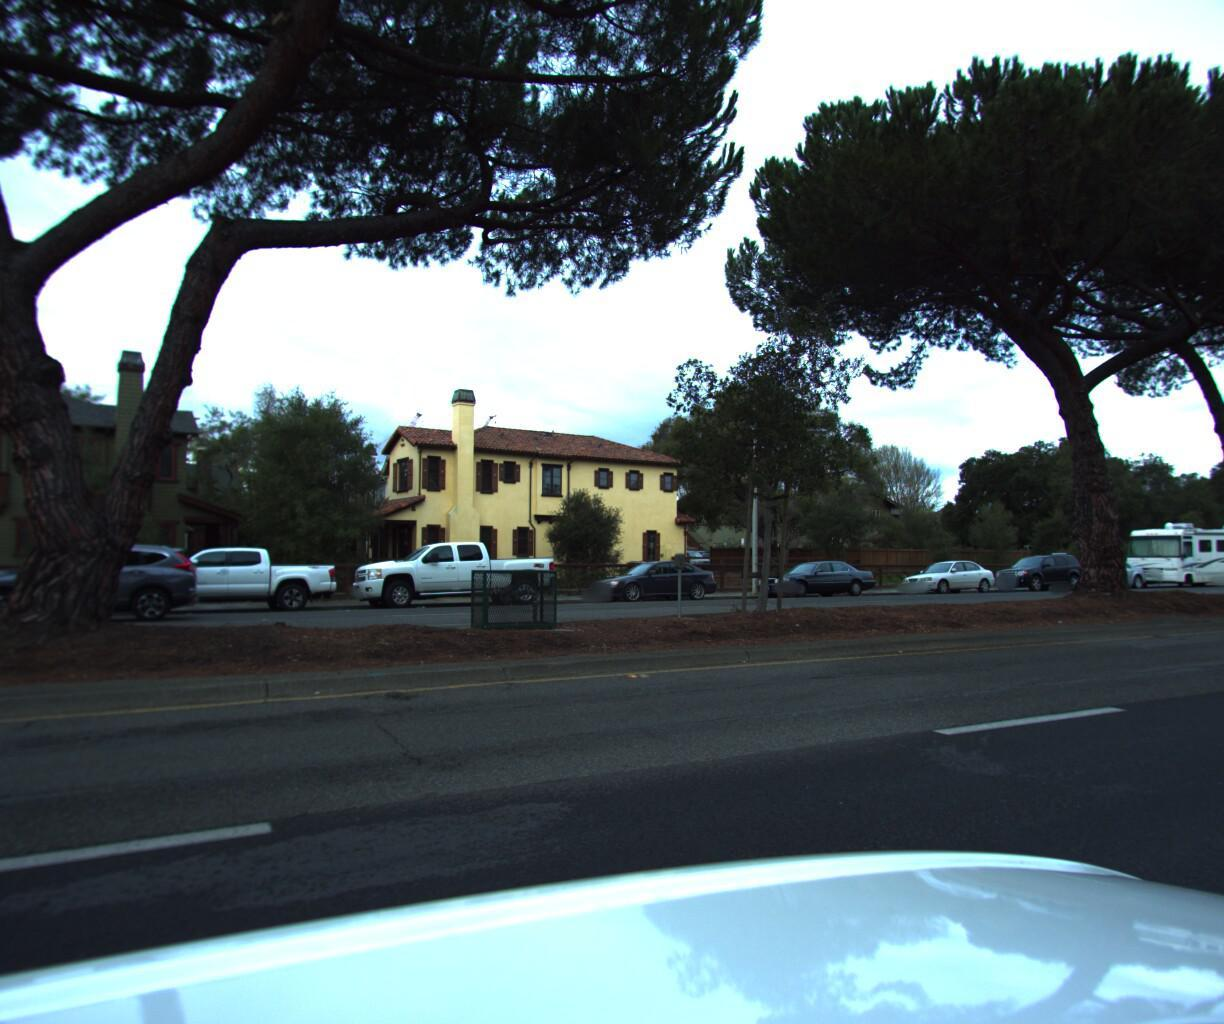car: (340, 532, 567, 613), (106, 542, 344, 619), (0, 541, 200, 628), (575, 554, 722, 601), (744, 555, 877, 595), (890, 552, 997, 589), (986, 546, 1083, 587), (1049, 551, 1145, 588)
other_vehicle: (1107, 509, 1224, 584)
